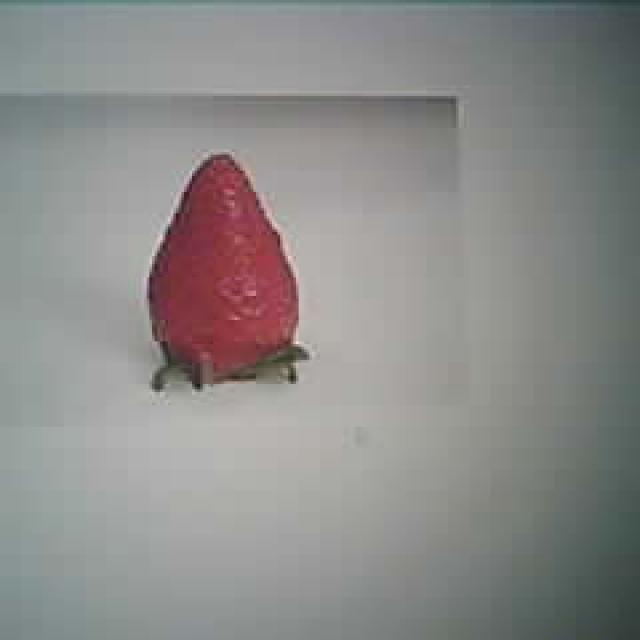strawberry: (150, 153, 300, 379)
